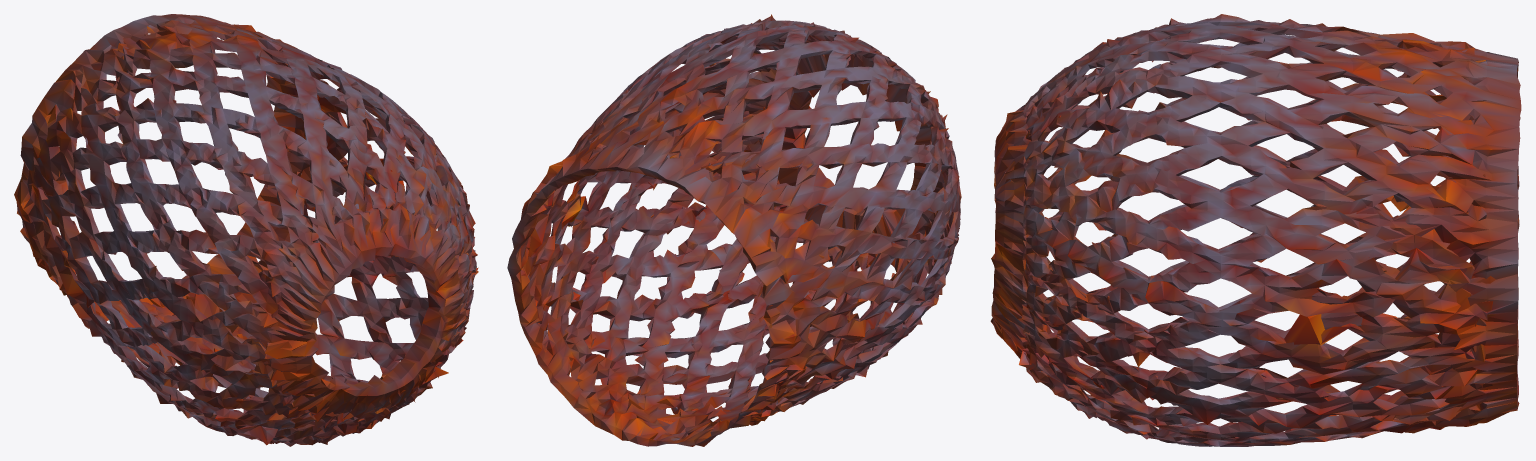
File: lamp_shade_14_final300.obj
3 views of the same model, side by side, from view 1: azimuth 30°, elevation 25°; view 2: azimuth 150°, elevation 25°; view 3: azimuth 270°, elevation 25° (orthographic). The views are drawn at different scales.
Bounding box in the file's own units: 1.23 × 1.21 × 1.51.
